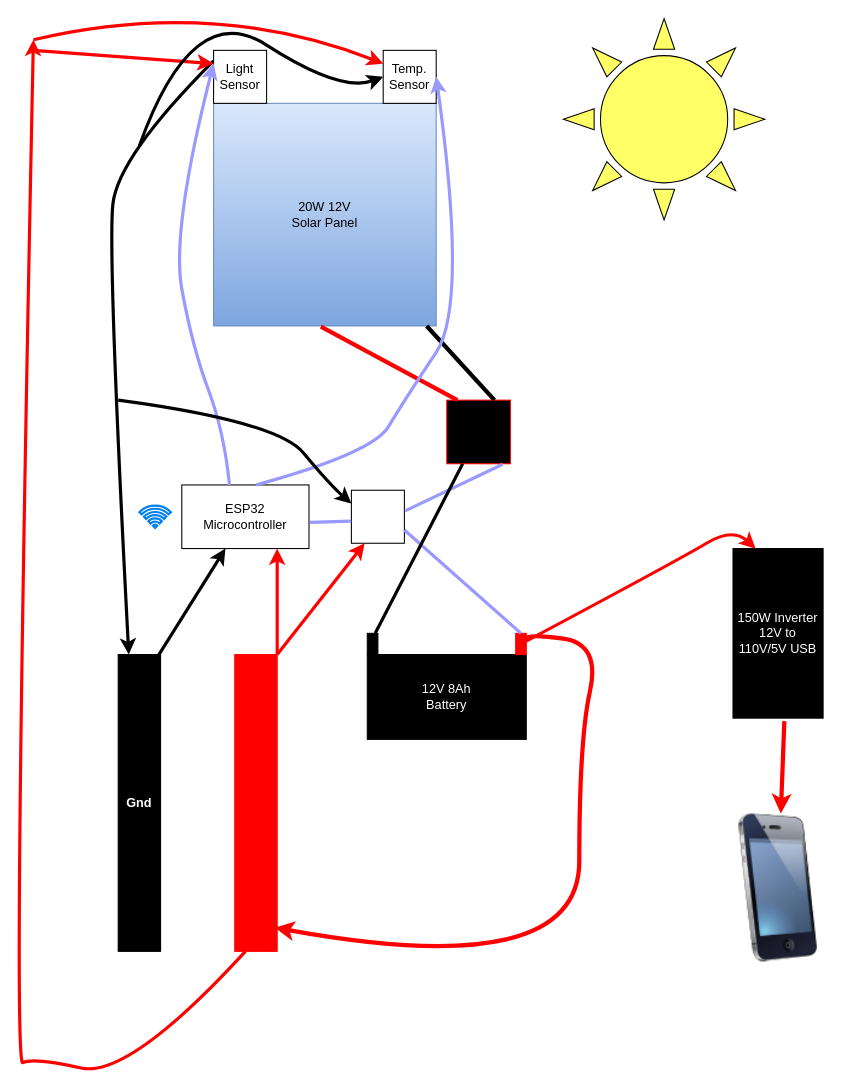
Some shapes in this 850 by 1089 pixel diagram are drawn without their labels. Here are the shapes that lost their labels. From the top down, the centre of each, then its label:
At (478,431): "Sma rt Charger Controller".
At (377,516): "Current Sensor".
At (255,802): "Vcc".
